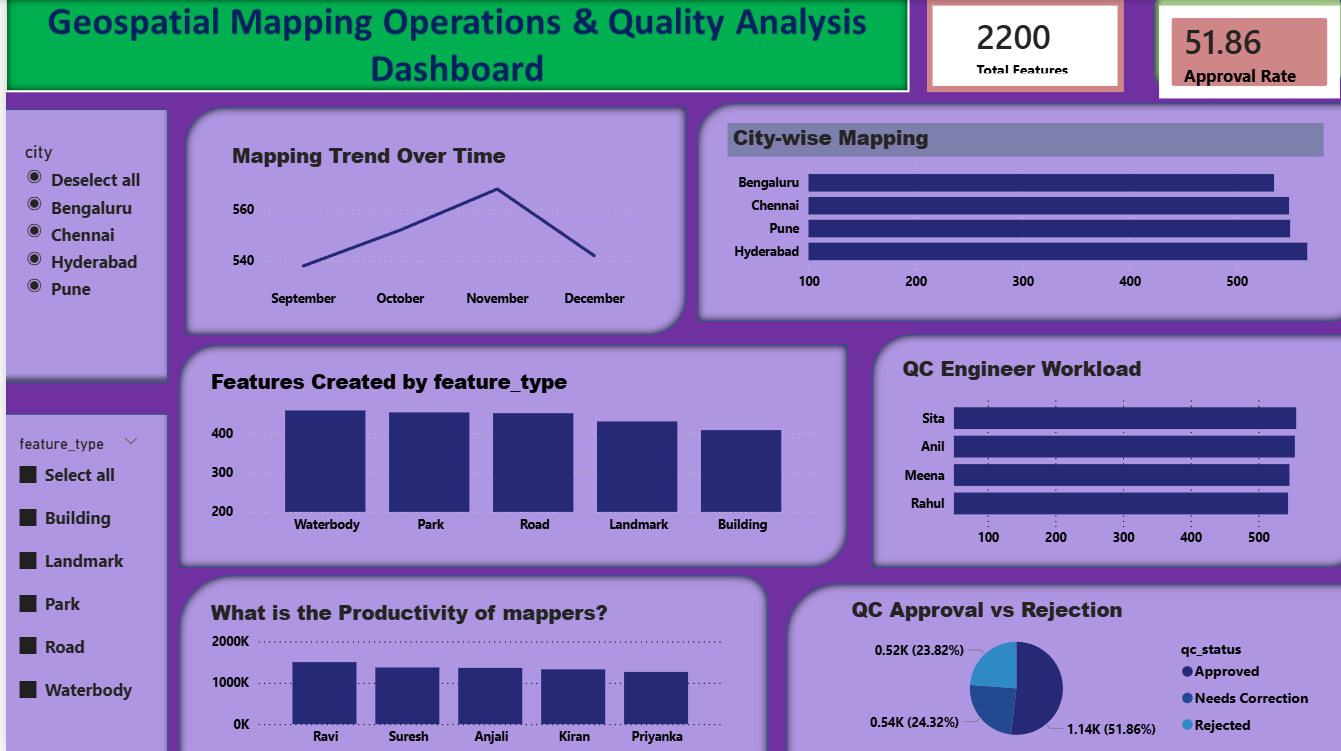

The page's visual inventory and layout, read from the dashboard file:
{"tool":"powerbi","page":{"name":"Page 1","canvas":[1280,720],"ordinal":0},"visuals":[{"type":"barChart","title":"City-wise Mapping","fields":{"Category":["cleaned_map_features.city"],"Y":["cleaned_map_features.City Feature Count"]},"box":[689.7,117.1,569.3,169.2],"z":0},{"type":"clusteredColumnChart","title":"What is the Productivity of mappers?","fields":{"Category":["cleaned_mapping_tasks.mapped_by"],"Y":["Sum(cleaned_mapping_tasks.task_id)"]},"box":[190.3,570.9,499.3,149.6],"z":1000},{"type":"pieChart","title":"QC Approval vs Rejection","fields":{"Category":["cleaned_qc_task.qc_status"],"Y":["CountNonNull(cleaned_qc_task.qc_id)"]},"box":[802.5,569.3,455.8,149.9],"z":2000},{"type":"lineChart","title":"Mapping Trend Over Time","fields":{"Y":["cleaned_map_features.Features Created"],"Category":["cleaned_map_features.created_date.Variation.Date Hierarchy.Month"]},"box":[210,134.3,392.9,168.6],"z":4000},{"type":"listSlicer","fields":{"Values":["cleaned_map_features.city"]},"box":[13,135,125.2,242.4],"z":5000},{"type":"slicer","fields":{"Values":["cleaned_map_features.feature_type"]},"box":[0,409.9,138.3,289.5],"z":6000},{"type":"columnChart","fields":{"Category":["cleaned_map_features.feature_type"],"Y":["cleaned_map_features.Features Created"]},"box":[190.3,351.3,596.9,167.5],"z":7000},{"type":"cardVisual","fields":{"Data":["cleaned_map_features.Total Features"]},"box":[879.8,0,187.8,87.8],"z":7001},{"type":"cardVisual","fields":{"Data":["cleaned_mapping_tasks.Approval Rate"]},"box":[1096.3,0,183.2,99.9],"z":7002},{"type":"clusteredBarChart","title":"QC Engineer Workload","fields":{"Category":["cleaned_qc_task.qc_engineer"],"Y":["CountNonNull(cleaned_qc_task.qc_id)"]},"box":[850.7,338.3,396.9,193.6],"z":7003}]}

Visuals, with their boxes in screenshot pixels (x1, y1, x2, y2), scaled from the page's 1280x720 canvas onto the 1341x751 screenshot:
"City-wise Mapping" barChart: {"x1": 723, "y1": 122, "x2": 1319, "y2": 299}
"What is the Productivity of mappers?" clusteredColumnChart: {"x1": 199, "y1": 595, "x2": 722, "y2": 750}
"QC Approval vs Rejection" pieChart: {"x1": 841, "y1": 594, "x2": 1318, "y2": 750}
"Mapping Trend Over Time" lineChart: {"x1": 220, "y1": 140, "x2": 632, "y2": 316}
listSlicer - cleaned_map_features.city: {"x1": 14, "y1": 141, "x2": 145, "y2": 394}
slicer - cleaned_map_features.feature_type: {"x1": 0, "y1": 428, "x2": 145, "y2": 730}
columnChart - cleaned_map_features.feature_type x cleaned_map_features.Features Created: {"x1": 199, "y1": 366, "x2": 825, "y2": 541}
cardVisual - cleaned_map_features.Total Features: {"x1": 922, "y1": 0, "x2": 1118, "y2": 92}
cardVisual - cleaned_mapping_tasks.Approval Rate: {"x1": 1149, "y1": 0, "x2": 1340, "y2": 104}
"QC Engineer Workload" clusteredBarChart: {"x1": 891, "y1": 353, "x2": 1307, "y2": 555}
